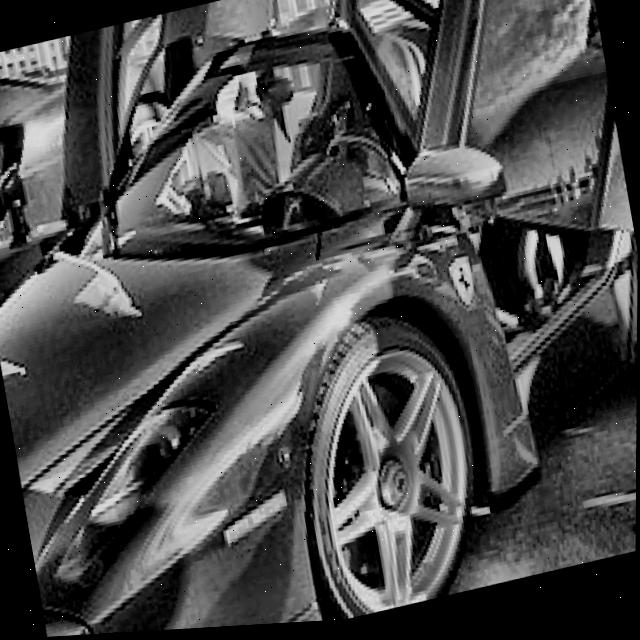light_vehicle: (0, 0, 640, 640), (0, 13, 223, 412)
